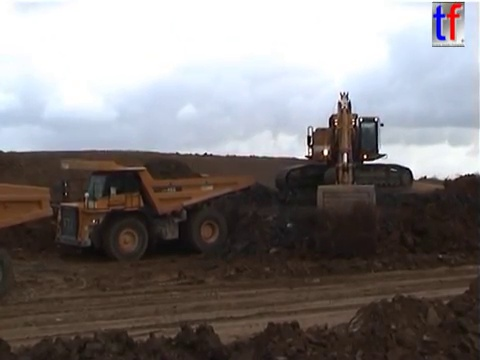excavator: (272, 88, 415, 258)
truck: (53, 156, 257, 264), (1, 179, 55, 299)
